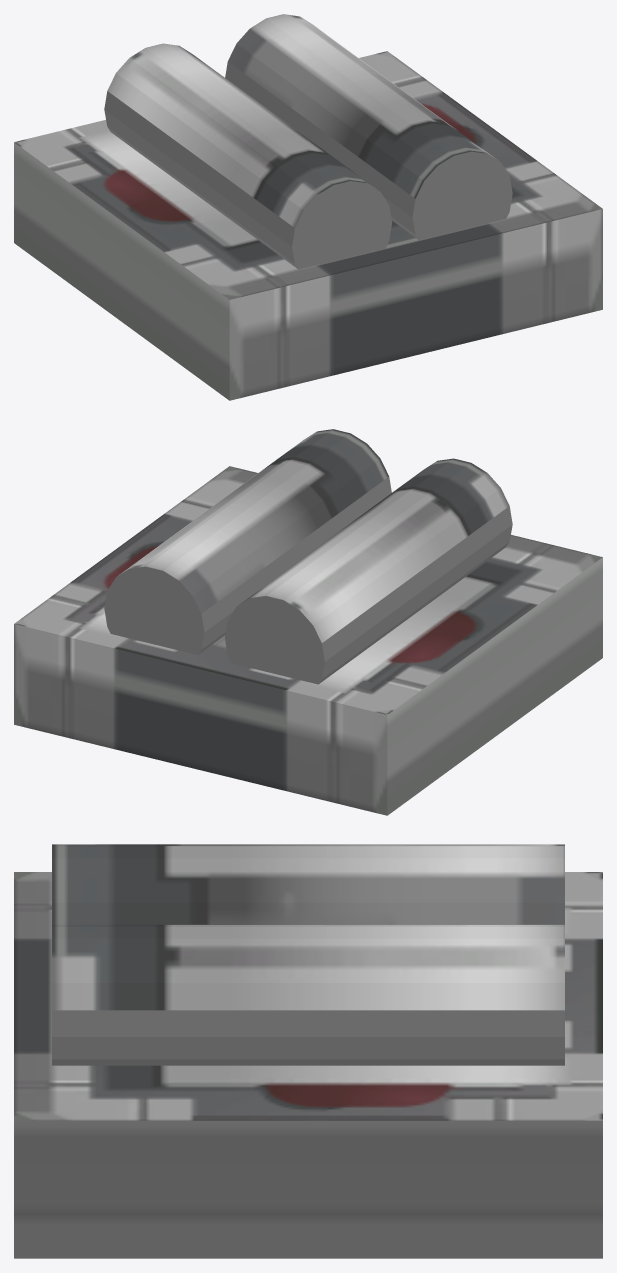
File: Building_FuelOptimizer.glb
3 views of the same model, one above another, from view 1: azimuth 30°, elevation 25°; view 2: azimuth 150°, elevation 25°; view 3: azimuth 270°, elevation 25° (orthographic). The views are drawn at different scales.
Parts seen in each view (by area): view 1: FuelOptimizer; view 2: FuelOptimizer; view 3: FuelOptimizer.
Boxes of the visible parts, left/top/right/bottom form: FuelOptimizer: left=14, top=14, right=602, bottom=400; FuelOptimizer: left=14, top=429, right=602, bottom=815; FuelOptimizer: left=14, top=844, right=602, bottom=1258.
Size of the model in its own units: 1.94 by 0.876 by 1.94.
1 material, 1 textured.
